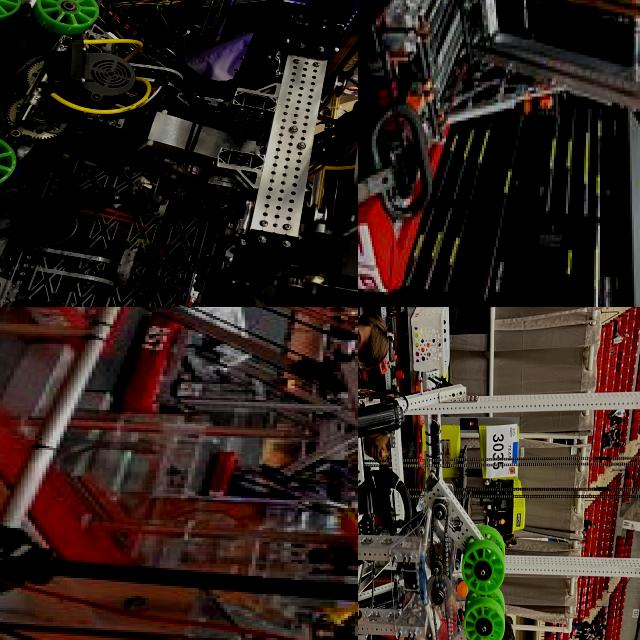FRC-Robots: (0, 307, 358, 581), (358, 307, 640, 640), (358, 0, 640, 307), (129, 307, 358, 519), (201, 442, 358, 624)
